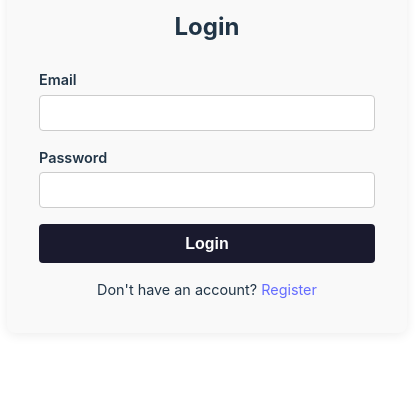
LoginPage › shows an error message on failed login
Type "bad@test.com" into the field labelled "Email". click: (207, 113)
box: x1=39 y1=95 x2=375 y2=131
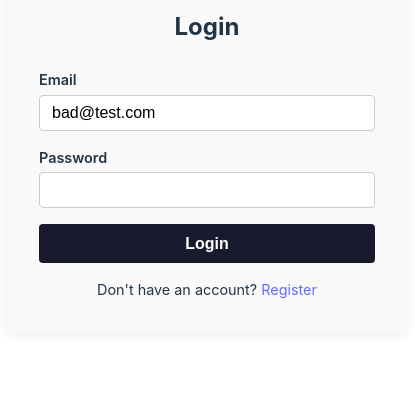
Type "wrongpass" into the password field labelled "Password". click: (207, 190)
box: x1=39 y1=172 x2=375 y2=208
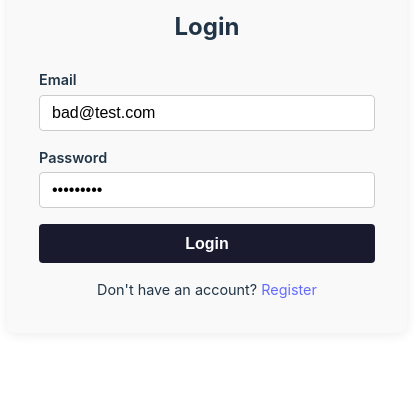
Click the button "Login". click: (207, 244)
box: x1=39 y1=224 x2=375 y2=263
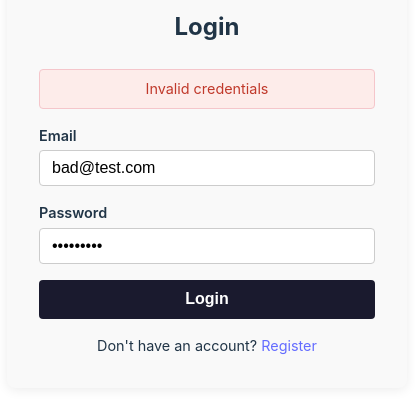
Expected: the text "Invalid credentials" is shown, x1=39 y1=69 x2=375 y2=109
